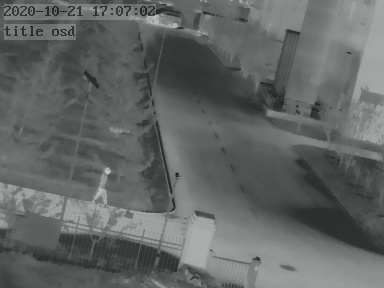person: (93, 167, 111, 206)
vehicle: (145, 7, 182, 28)
